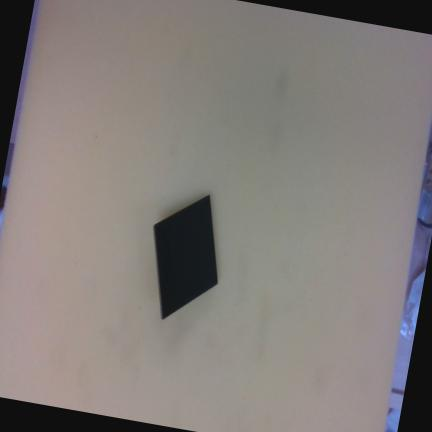tile: (151, 195, 221, 320)
